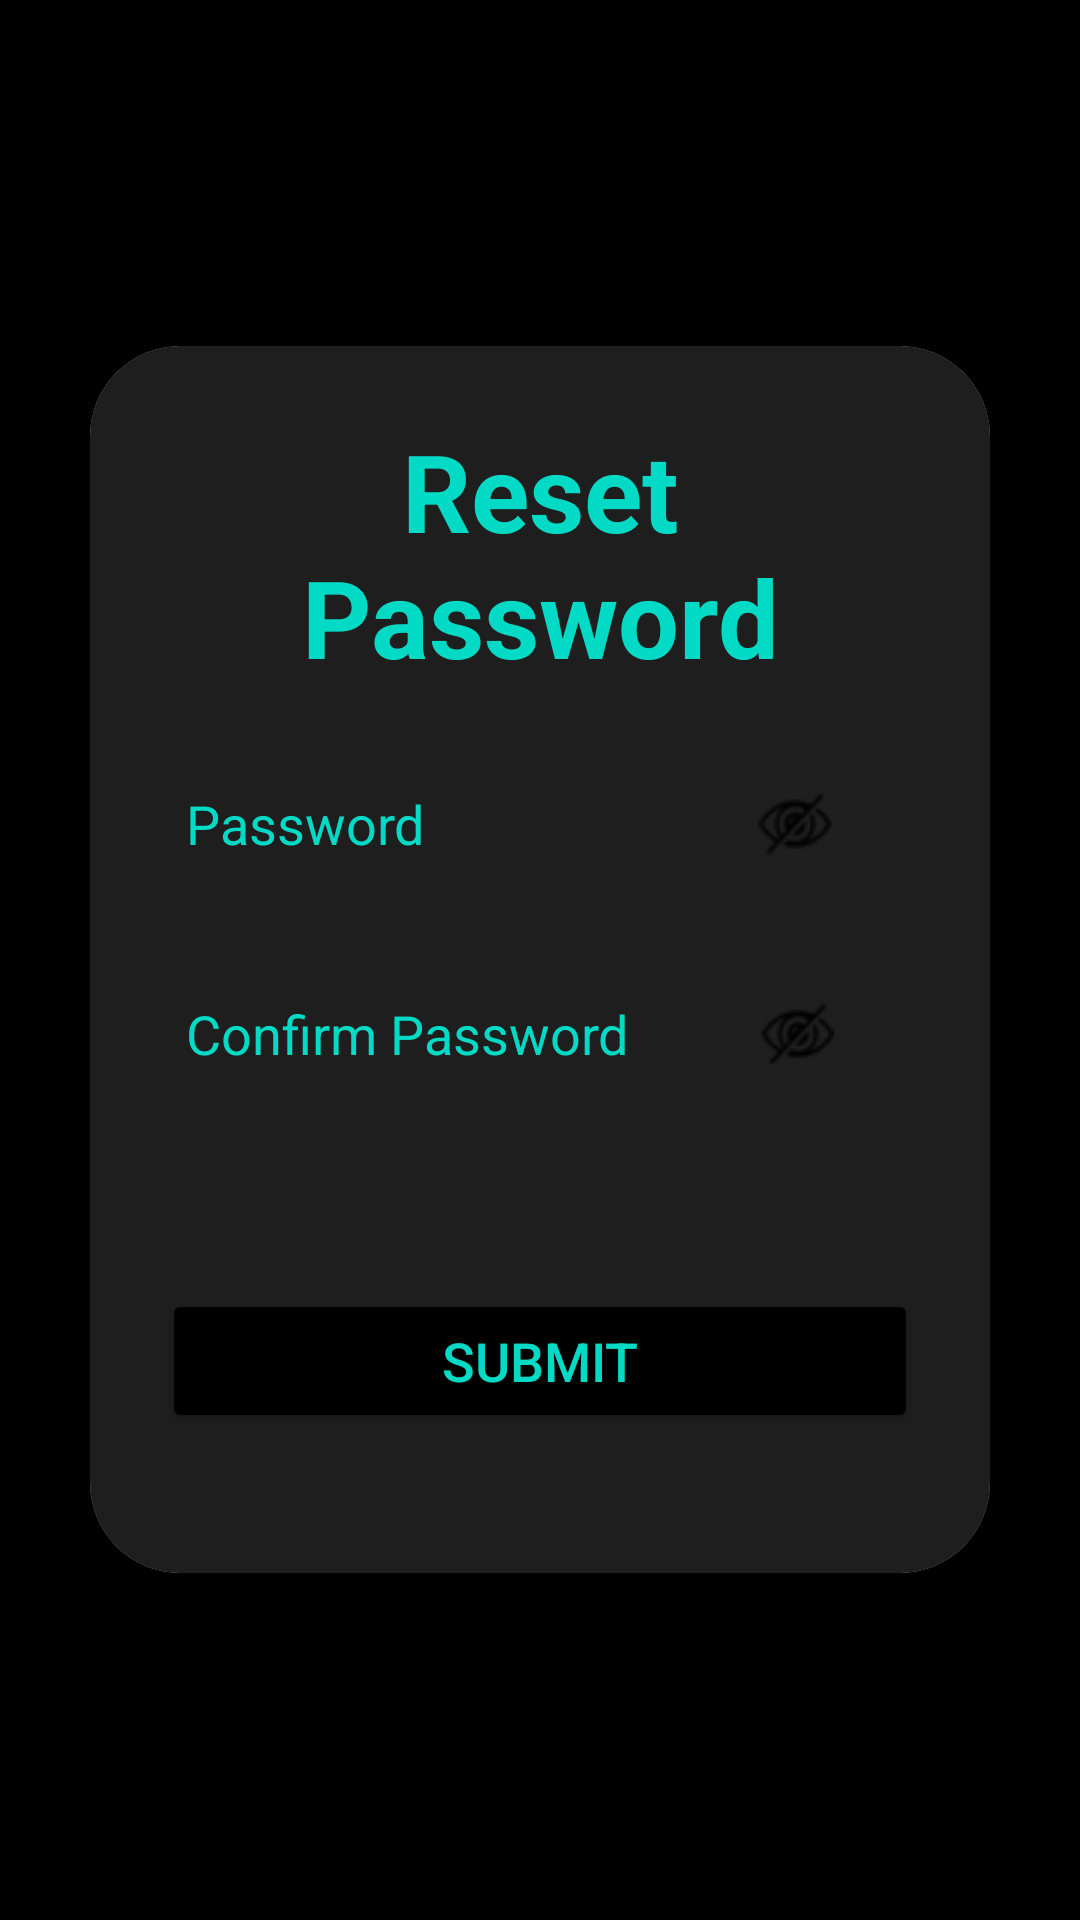

Where to tap for icons on this 1080x1920 app screen, as point (x, y):
hidepaswd: point (795, 824), point (798, 1034)
